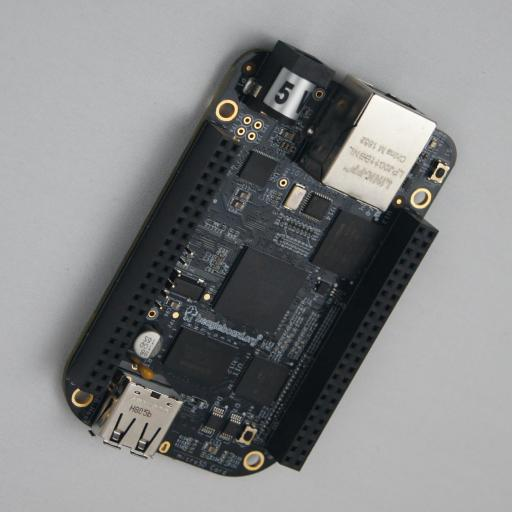Beaglebone Black: (58, 39, 456, 477)
